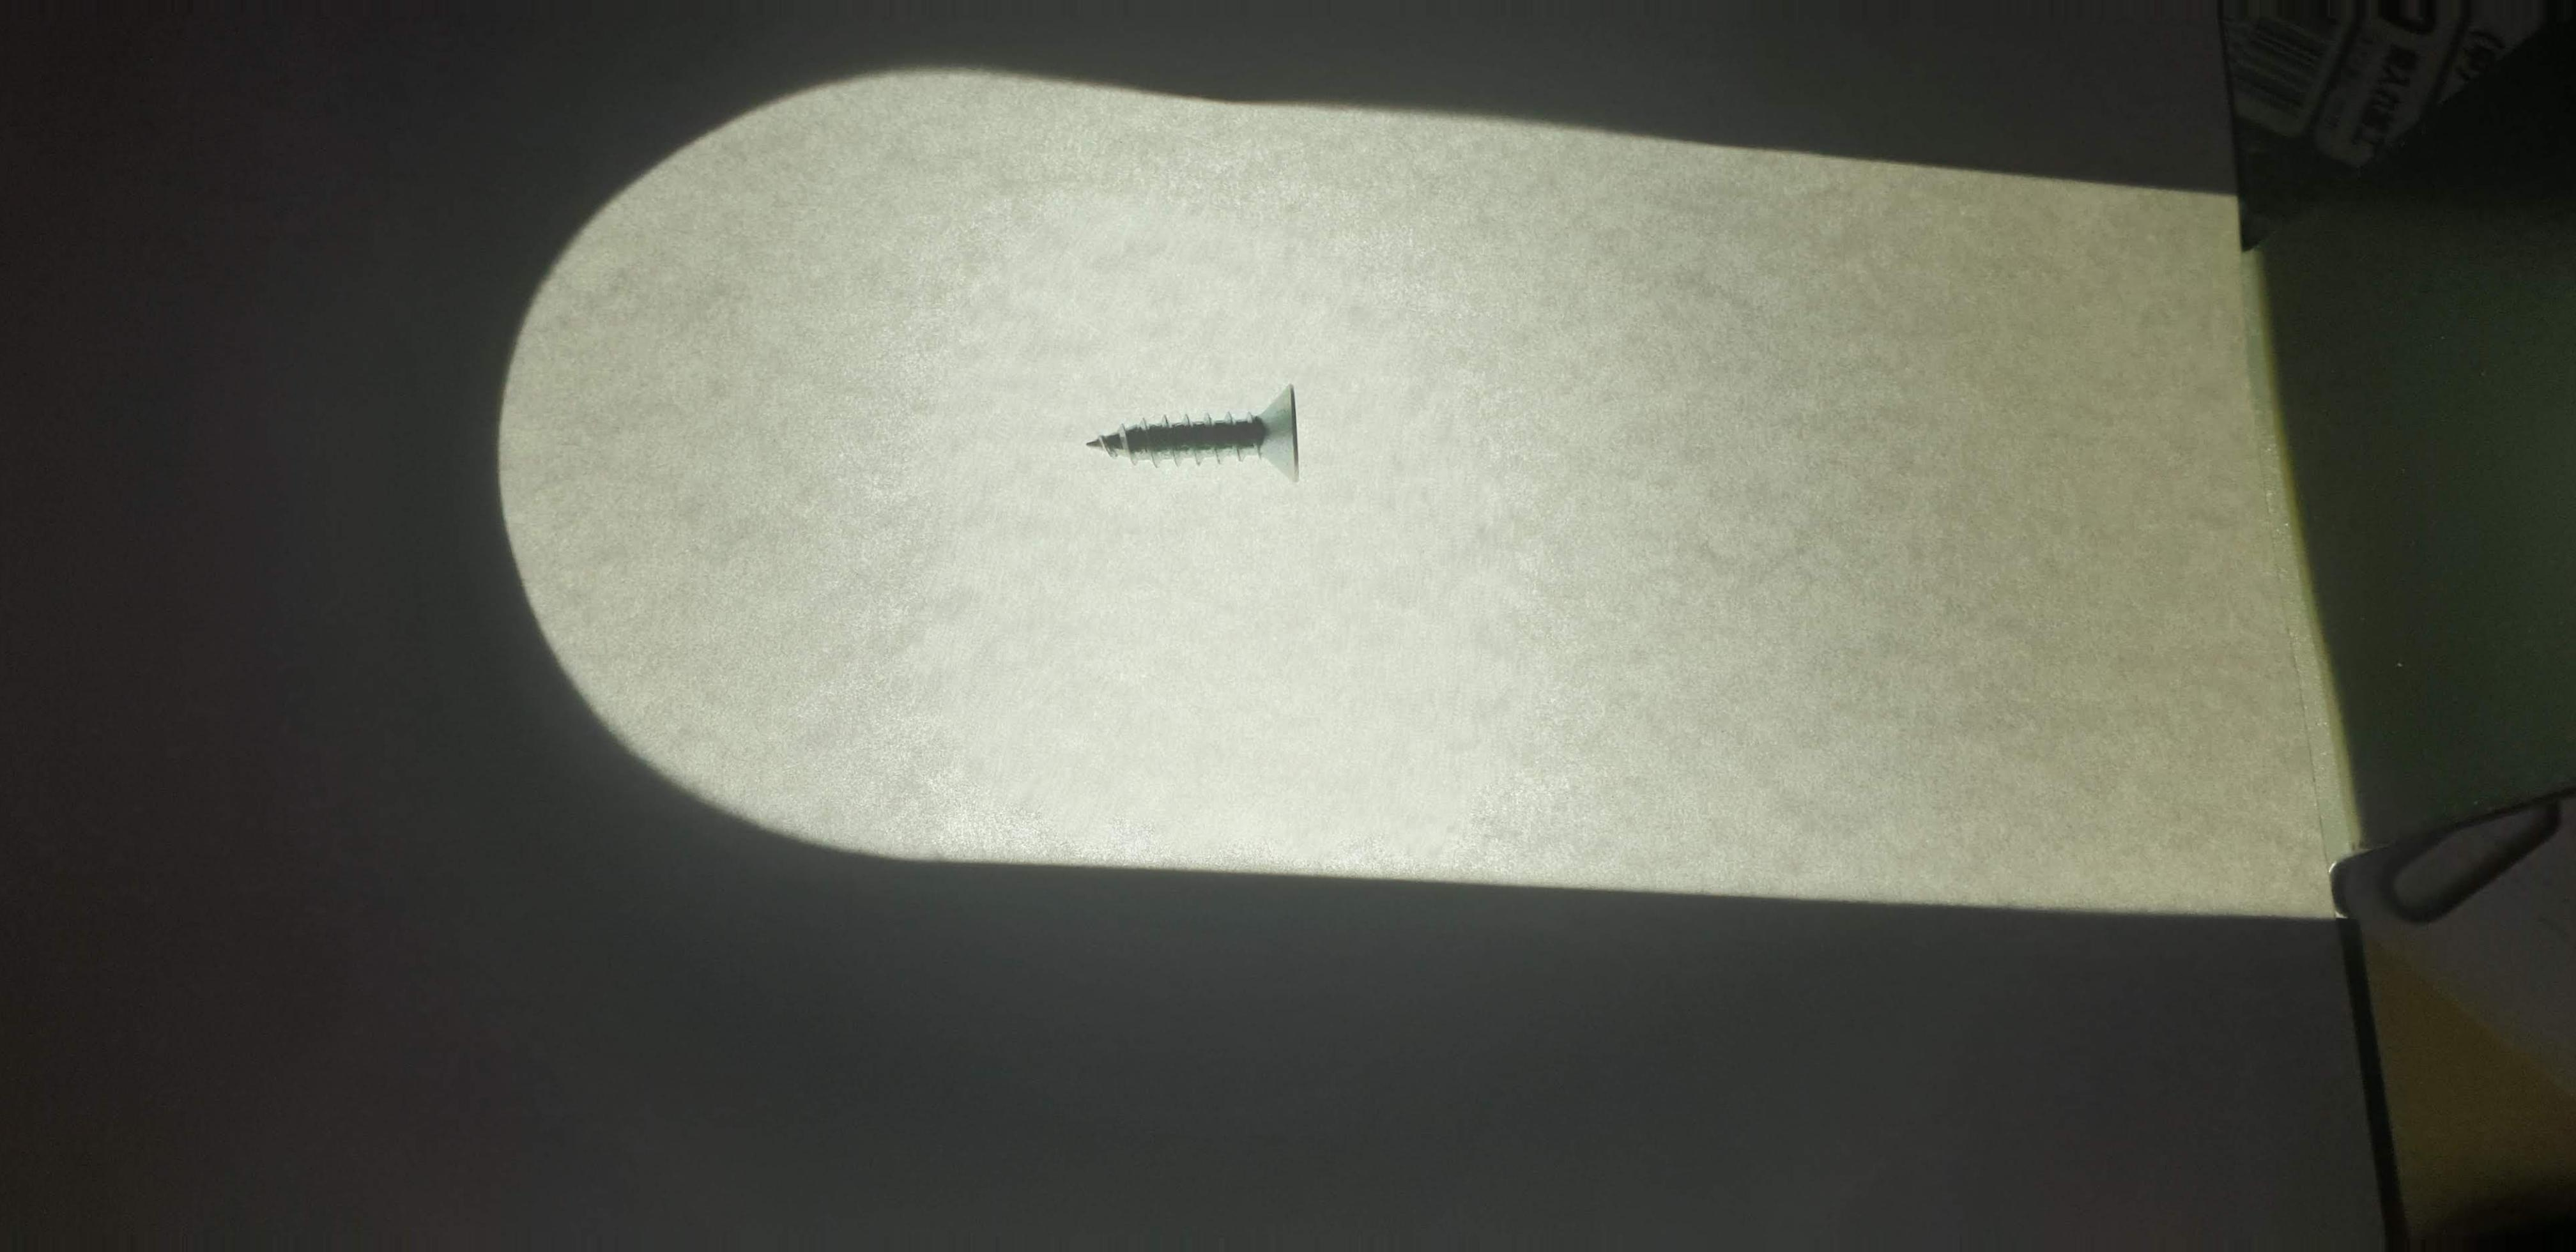S003: (1074, 371, 1331, 506)
